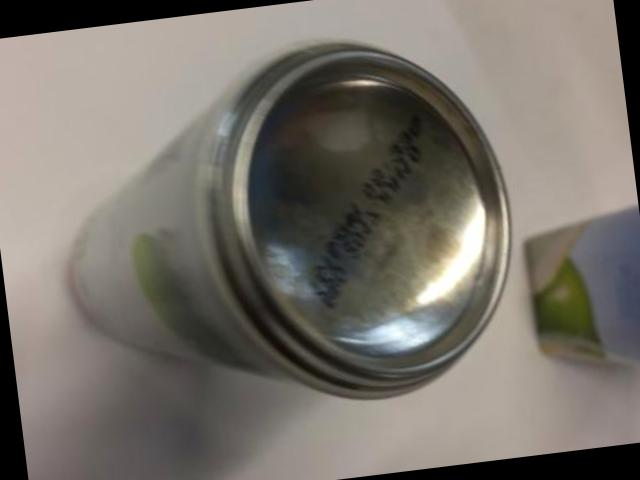metal: (71, 40, 510, 395)
